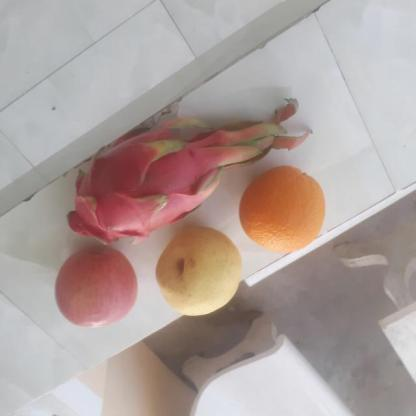apple: (50, 248, 138, 328)
orange: (236, 169, 329, 257)
pear: (151, 226, 246, 320)
pitaya: (66, 132, 214, 242)
